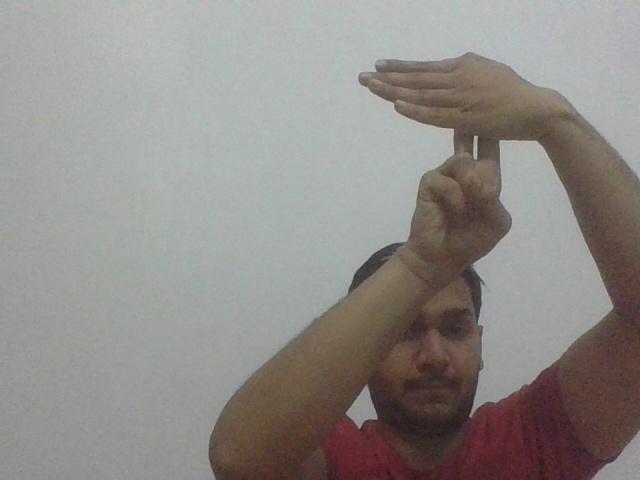N: (357, 50, 529, 164)
